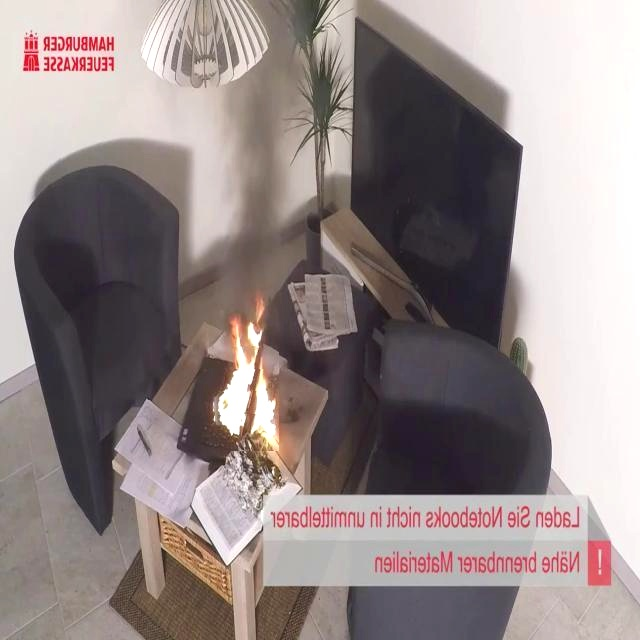fire: (202, 304, 287, 445)
